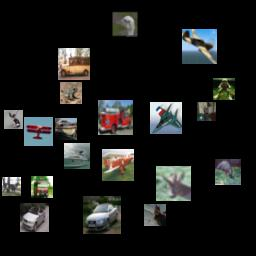airplane: (182, 29, 217, 64), (150, 102, 182, 134), (102, 149, 134, 181), (24, 117, 53, 146)
automobile: (83, 196, 121, 234), (58, 48, 90, 80), (20, 203, 49, 232)
bird: (215, 159, 241, 185), (112, 11, 138, 37)
cat: (144, 204, 166, 226), (197, 102, 216, 121)
deer: (156, 166, 191, 201), (2, 177, 21, 196)
dog: (4, 110, 23, 129)
frog: (60, 82, 82, 104), (213, 78, 235, 100)
ship: (64, 143, 90, 169), (55, 118, 77, 140)
truck: (98, 100, 133, 135), (31, 176, 53, 198)
